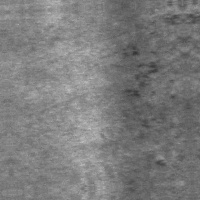rolled-in_scale: (115, 39, 161, 129)
